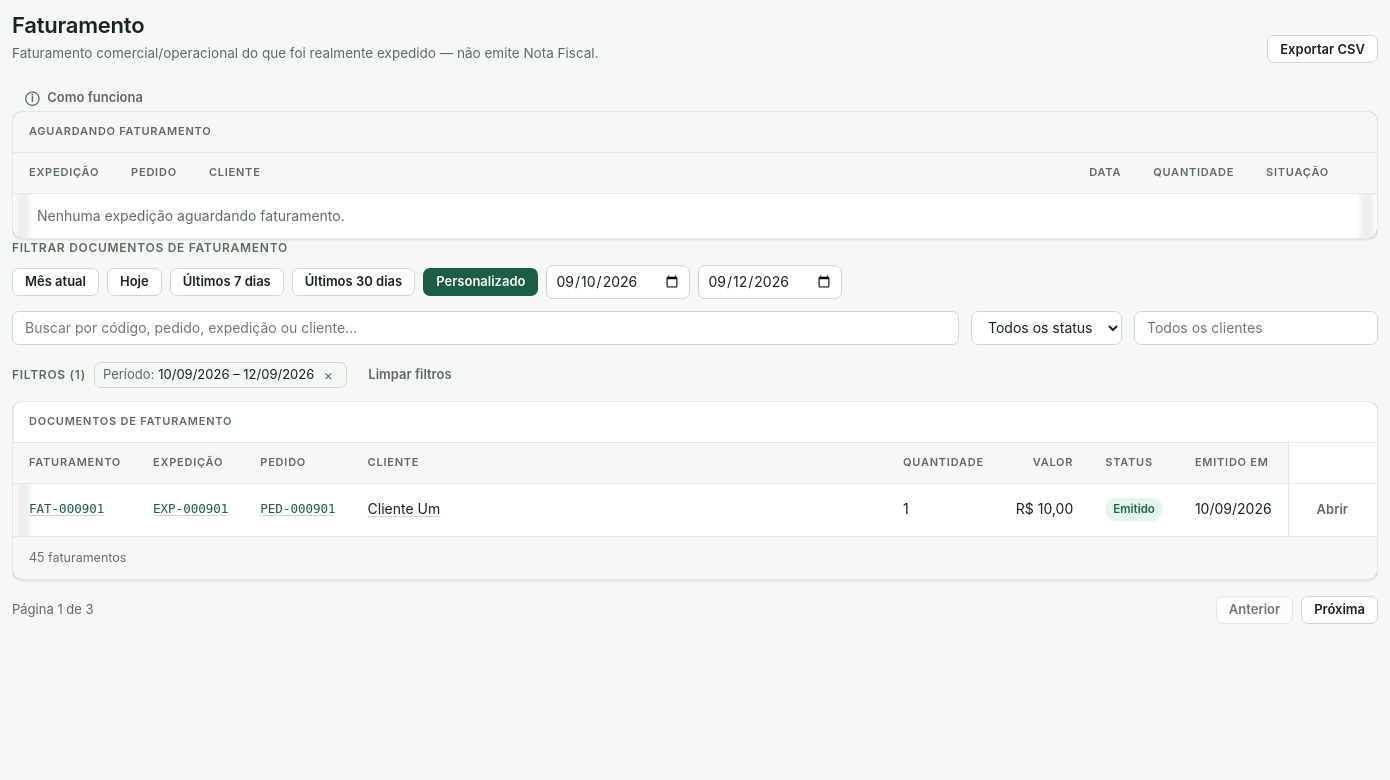
Scenario: as seis perguntas do período, lista por lista › Faturamento
Type "2026-09-10" into the 2nd date field named "Emitido até". click: (770, 282)
box: [698,265,842,299]
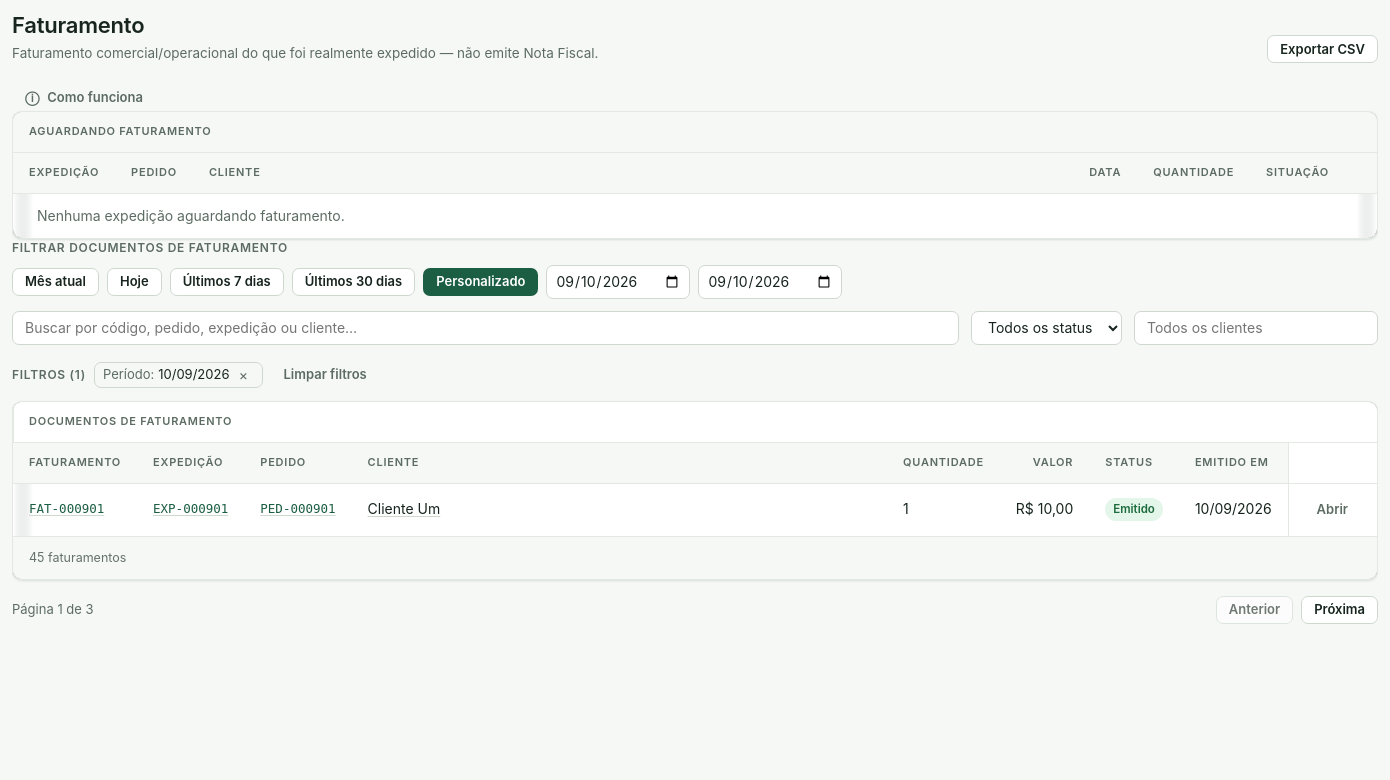
expect the link "FAT-000901" is shown: met, box [29,501,104,516]
expect the text "Página 1 de 3" is shown: met, box [12,600,94,619]
Clear the 2nd date field named "Emitido até". click: (770, 282)
box: [698,265,842,299]
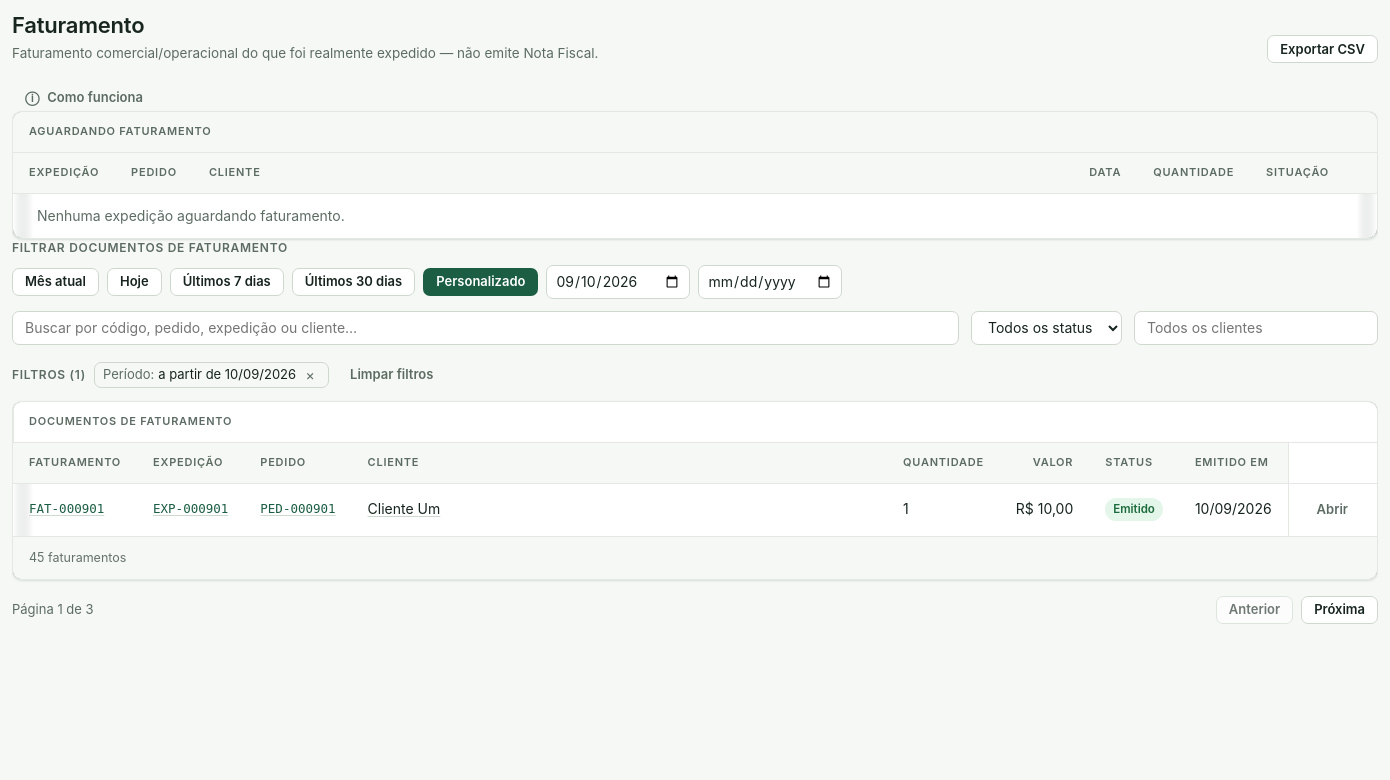
expect the link "FAT-000901" is shown: met, box [29,501,104,516]
expect the text "Página 1 de 3" is shown: met, box [12,600,94,619]
Clear the 1st date field named "Emitido a partir de". click: (618, 282)
box: [546,265,690,299]
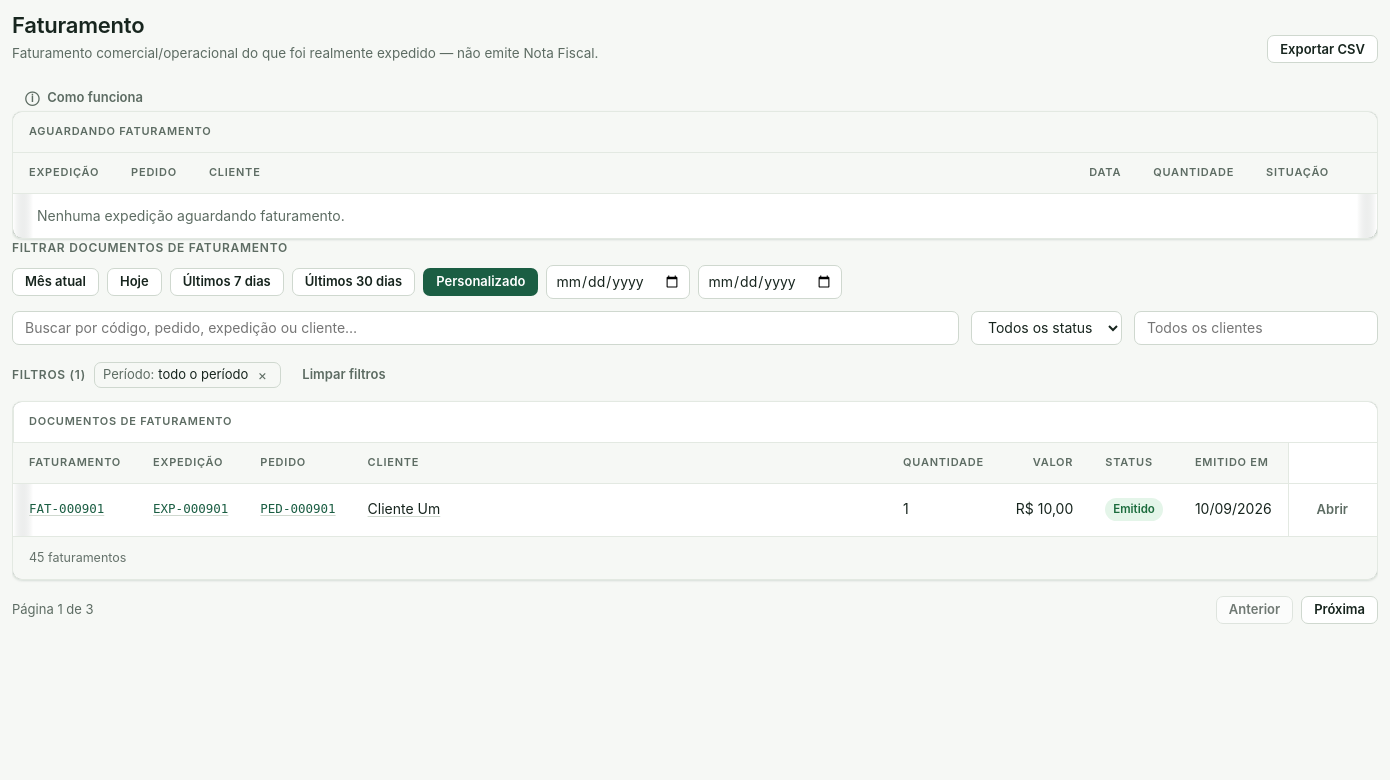
expect the link "FAT-000901" is shown: met, box [29,501,104,516]
expect the text "Página 1 de 3" is shown: met, box [12,600,94,619]
Type "2026-09-10" into the 2nd date field named "Emitido até". click: (770, 282)
box: [698,265,842,299]
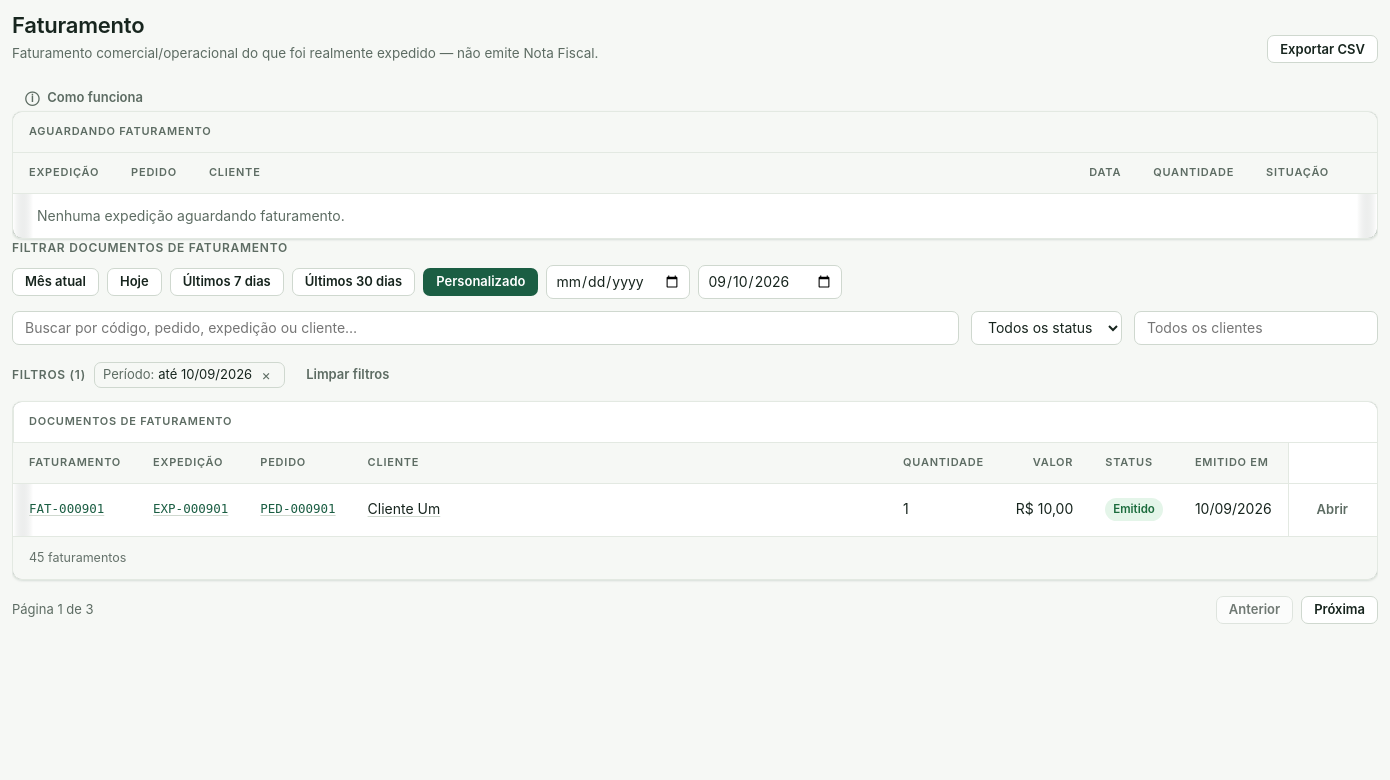
expect the link "FAT-000901" is shown: met, box [29,501,104,516]
expect the text "Página 1 de 3" is shown: met, box [12,600,94,619]
Type "2026-09-11" into the 1st date field named "Emitido a partir de". click: (618, 282)
box: [546,265,690,299]
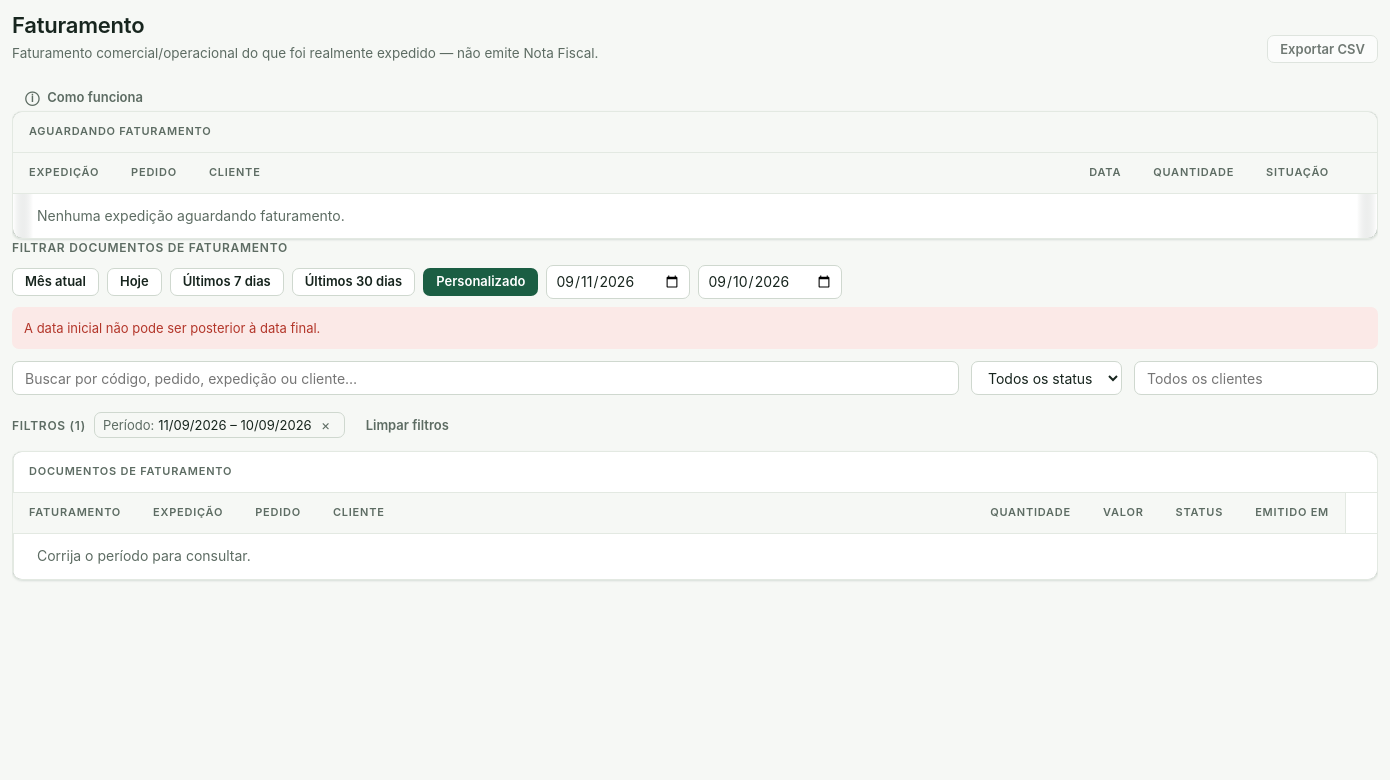
expect the message "A data inicial não pode ser posterior à data final." is shown: met, box [12,307,1378,349]
expect the message reads "A data inicial não pode ser posterior à data final.": met, box [24,320,320,336]
expect the text "Corrija o período para consultar." is shown: met, box [37,547,251,564]
Type "2026-09-11" into the 2nd date field named "Emitido até". click: (770, 282)
box: [698,265,842,299]
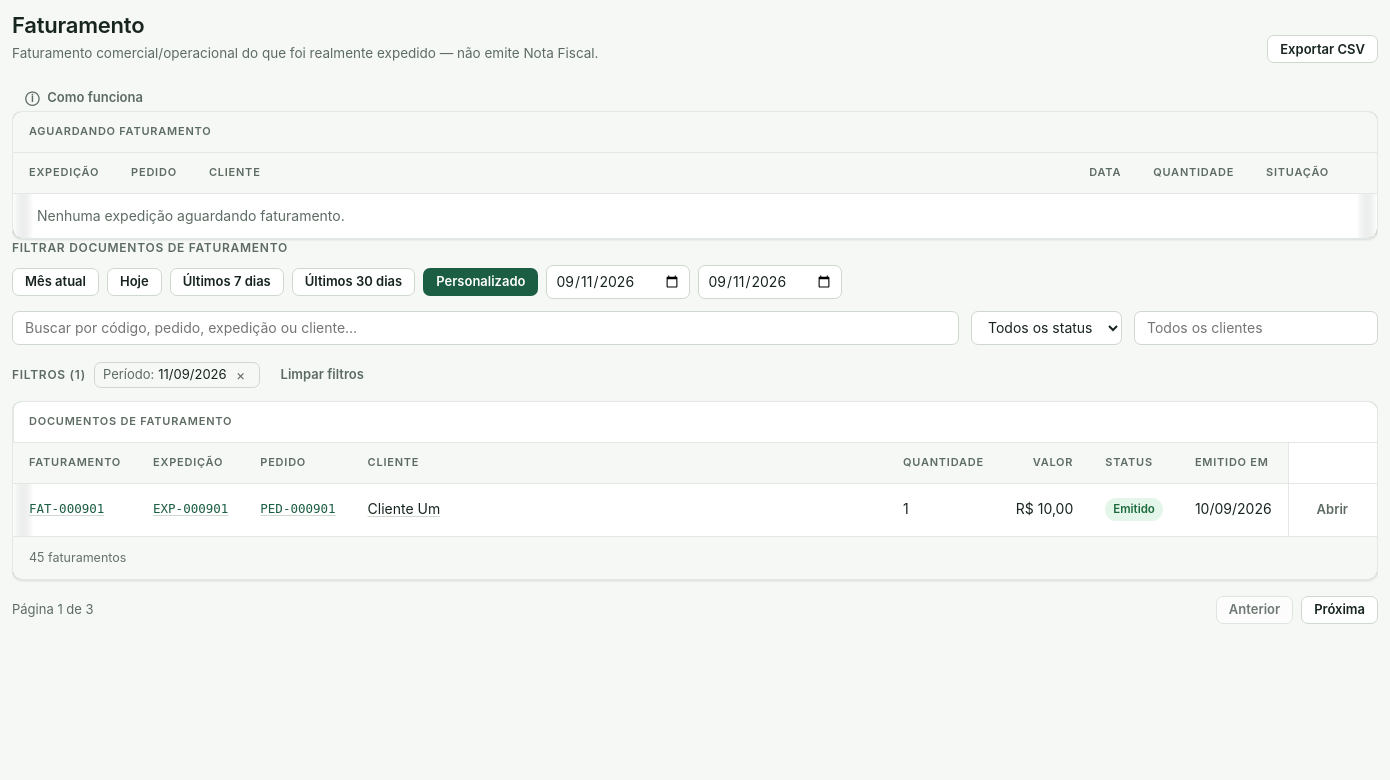
expect the link "FAT-000901" is shown: met, box [29,501,104,516]
expect the text "Página 1 de 3" is shown: met, box [12,600,94,619]
expect the message "A data inicial não pode ser posterior à data final." is gone: met
